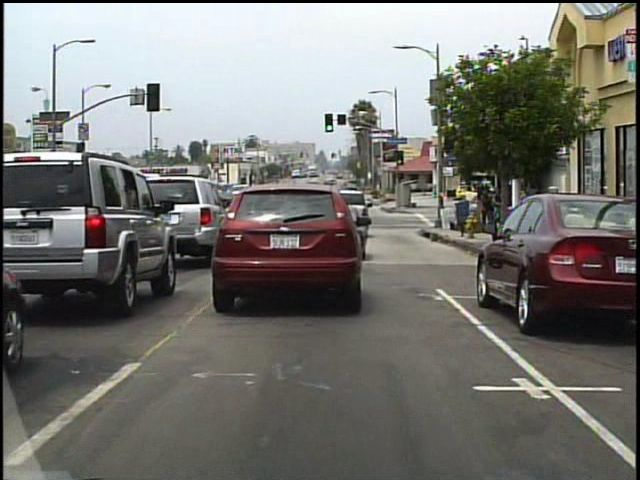person: (480, 188, 496, 224)
